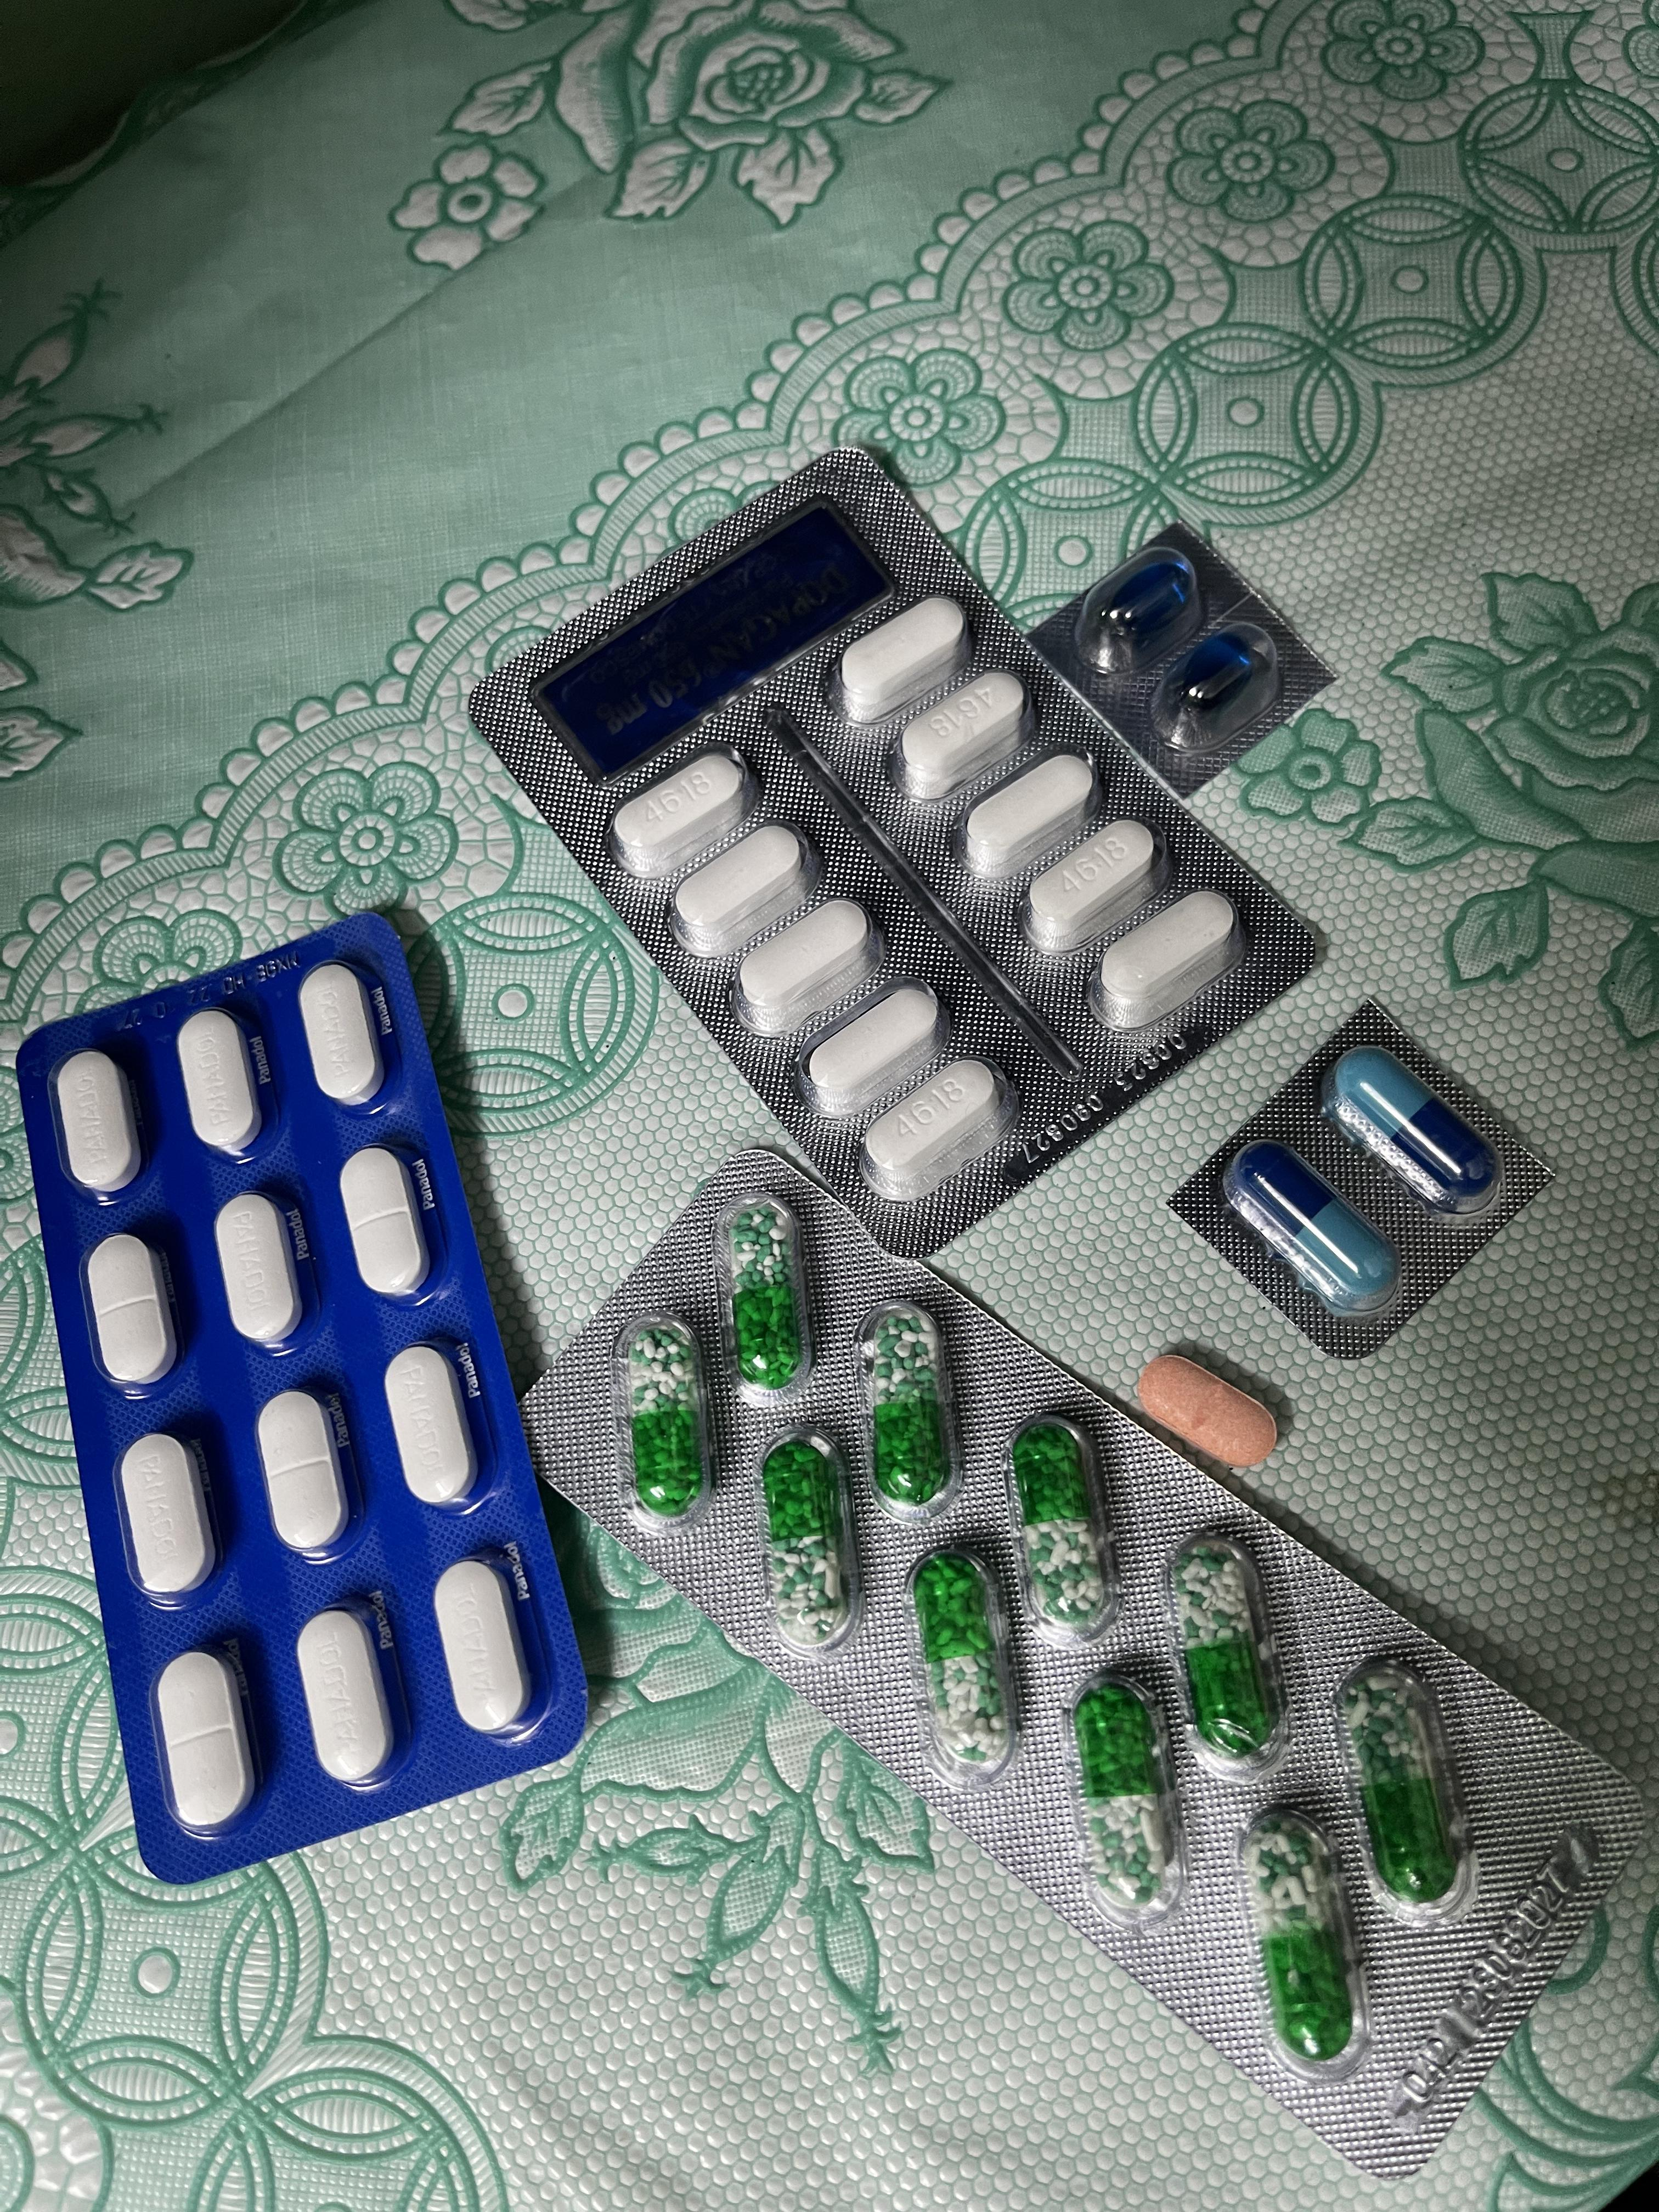Lincomyxin_500mg: (1103, 561, 1192, 639), (1175, 632, 1260, 712)
Loratadine_10mg: (1140, 1353, 1281, 1470)
Paracetamol_350mg: (155, 1648, 258, 1834), (298, 1604, 399, 1791), (434, 1559, 535, 1740), (119, 1432, 216, 1601), (256, 1392, 352, 1557), (385, 1346, 477, 1510), (85, 1235, 178, 1390), (338, 1150, 432, 1301), (213, 1195, 303, 1350), (56, 1052, 141, 1193), (178, 1008, 261, 1148), (298, 972, 383, 1106)
Paracetamol_500mg: (674, 820, 819, 963), (737, 897, 884, 1036), (1096, 887, 1237, 1029), (864, 1062, 1009, 1198), (606, 745, 749, 876), (964, 759, 1101, 892), (1025, 819, 1155, 951), (805, 984, 943, 1109), (901, 671, 1030, 799), (840, 596, 972, 719)
Paracetamol_650mg: (1338, 1656, 1476, 1918), (1066, 1674, 1182, 1921), (1249, 1818, 1354, 2052), (1175, 1540, 1281, 1761), (915, 1559, 1011, 1792), (613, 1318, 714, 1529), (859, 1303, 958, 1517), (714, 1195, 807, 1399), (1018, 1426, 1108, 1632), (762, 1435, 849, 1644)
pill: (1227, 1141, 1399, 1320), (1326, 1045, 1500, 1217)
